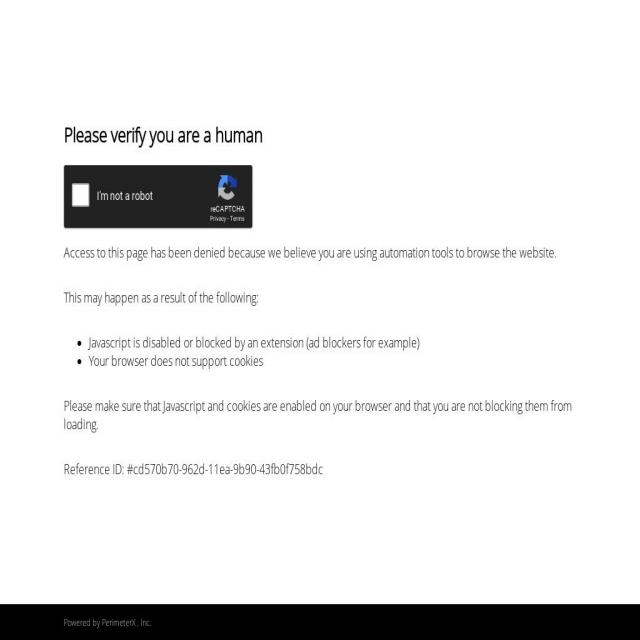field: (72, 184, 90, 206)
